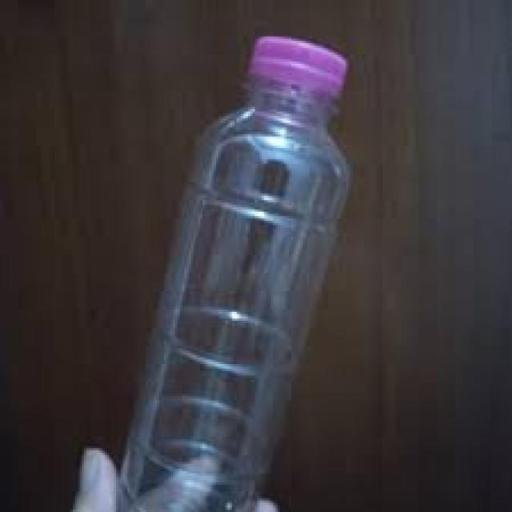plastic: (112, 36, 348, 512)
